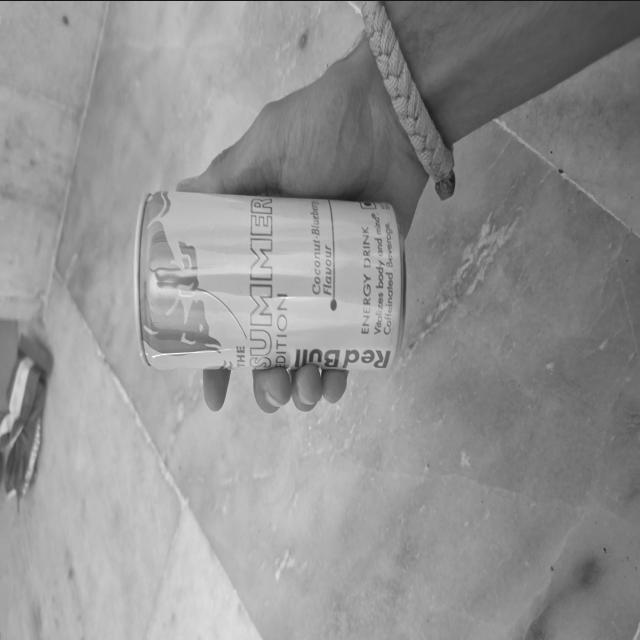Redbull Summer Edition: (142, 188, 396, 372)
